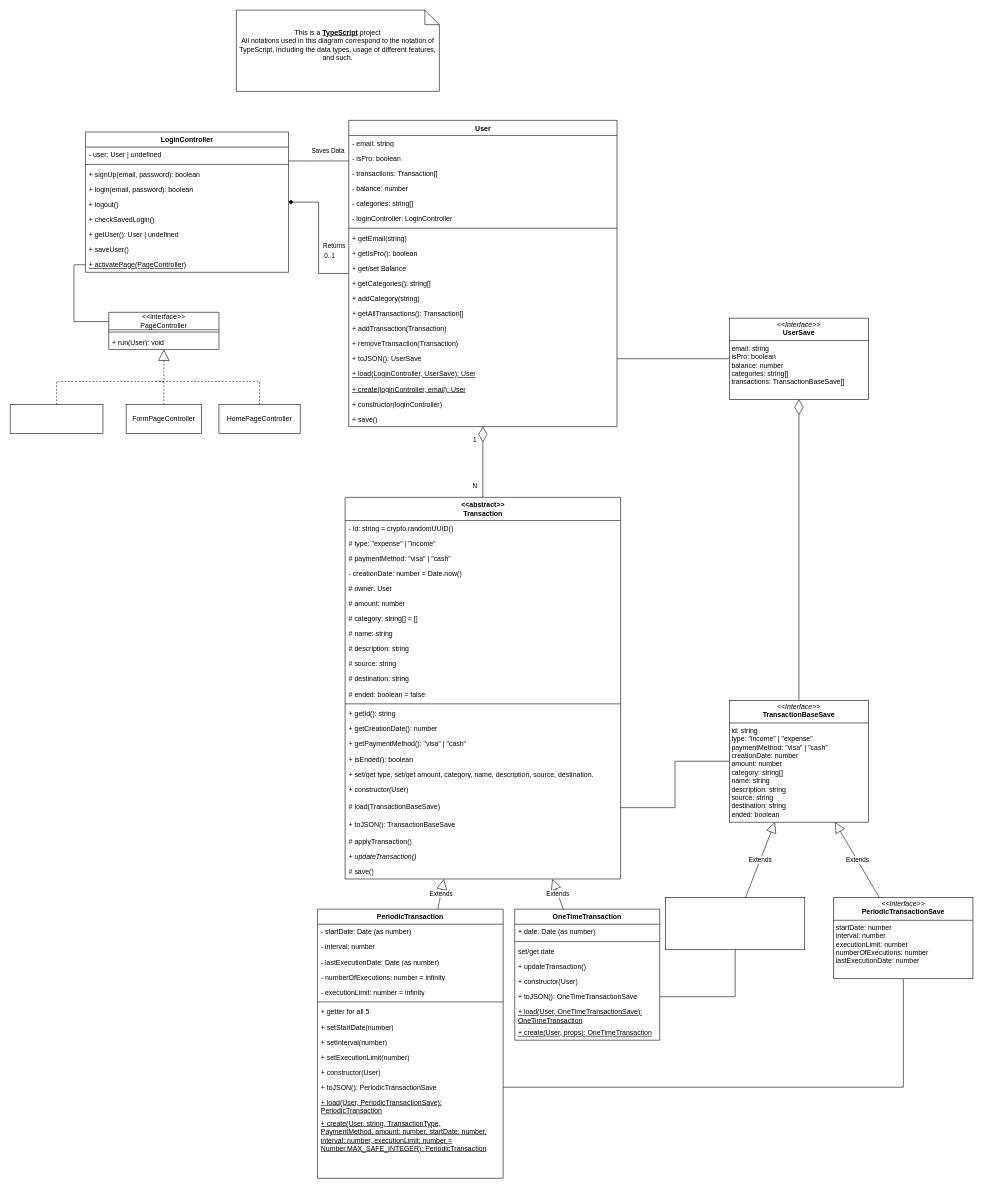
The diagram is 983 pixels wide and 1190 high, and some of its shapes have lost their labels. The shapes that lost their labels are listed below. From the top down, each one's centre as x and y in pixels, then its label:
At (56,419): "DashboardPageController".
At (735,923): "<<Interface>> OneTimeTransactionSave date: number".
